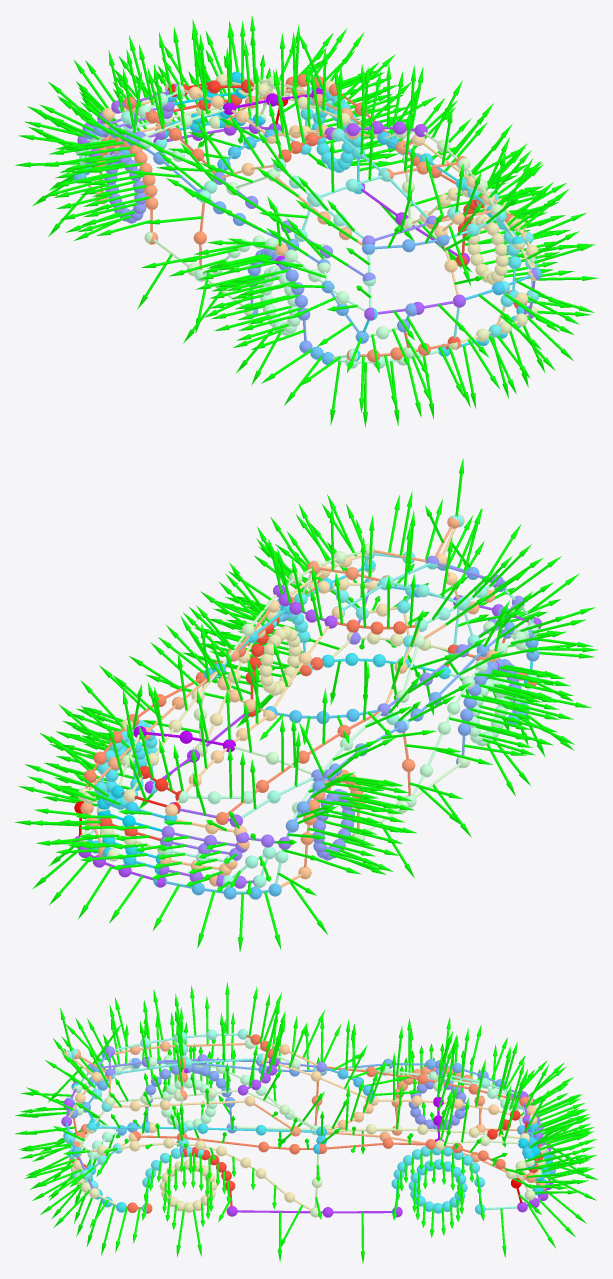
File: ils_car4.gltf
3 views of the same model, one above another, from view 1: azimuth 30°, elevation 25°; view 2: azimuth 150°, elevation 25°; view 3: azimuth 270°, elevation 25° (orthographic). The views are drawn at different scales.
Size of the model in its own units: 0.5682 by 0.4281 by 1.09.
